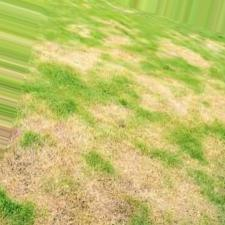patch: (23, 113, 103, 213), (109, 149, 203, 218), (140, 75, 198, 120), (158, 36, 208, 65), (43, 45, 98, 69), (101, 26, 135, 58)
